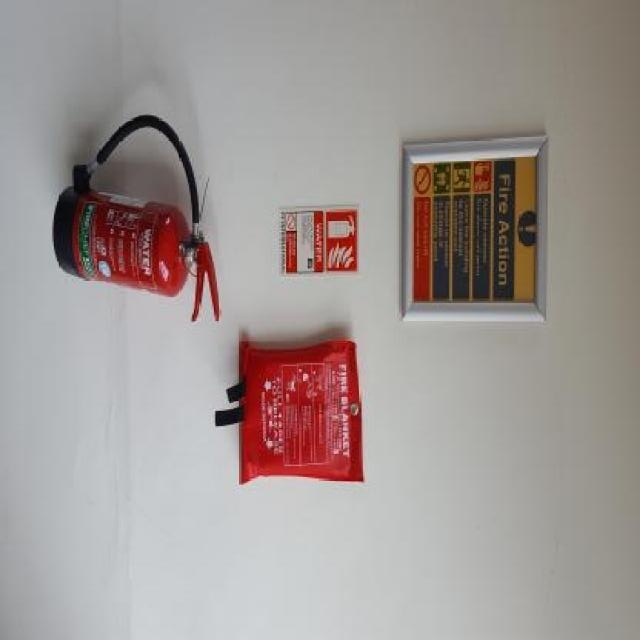fire extinguisher: (52, 111, 219, 324)
